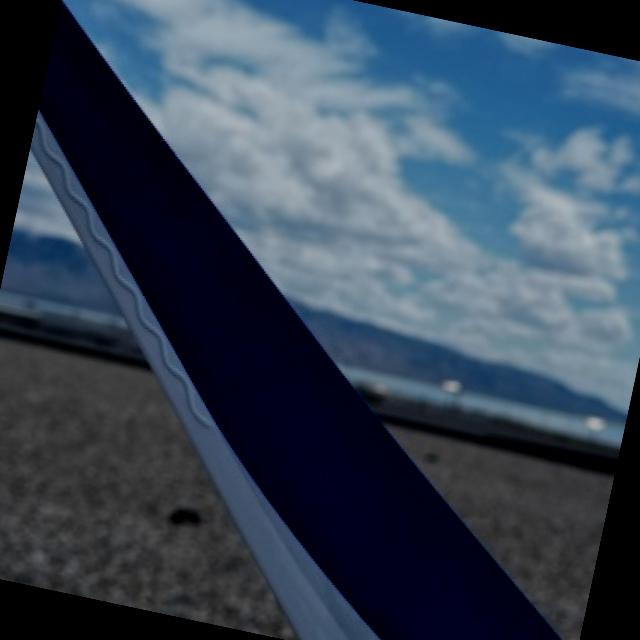healthy: (2, 158, 115, 309)
